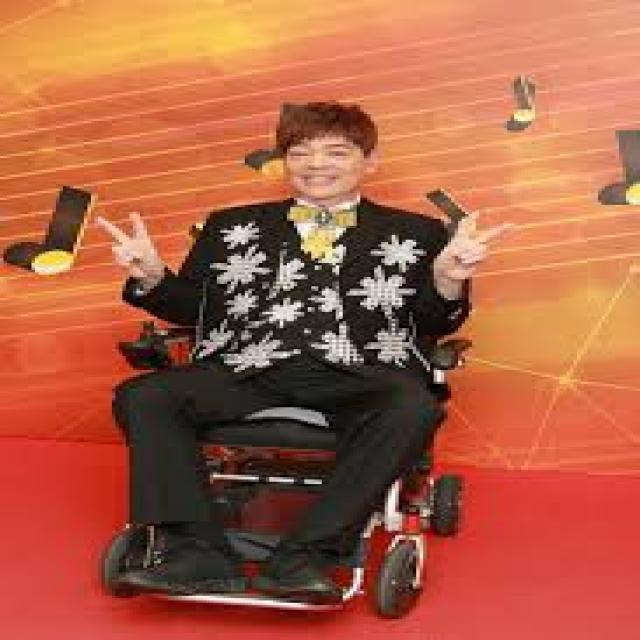wheelchairs: (77, 260, 458, 616)
